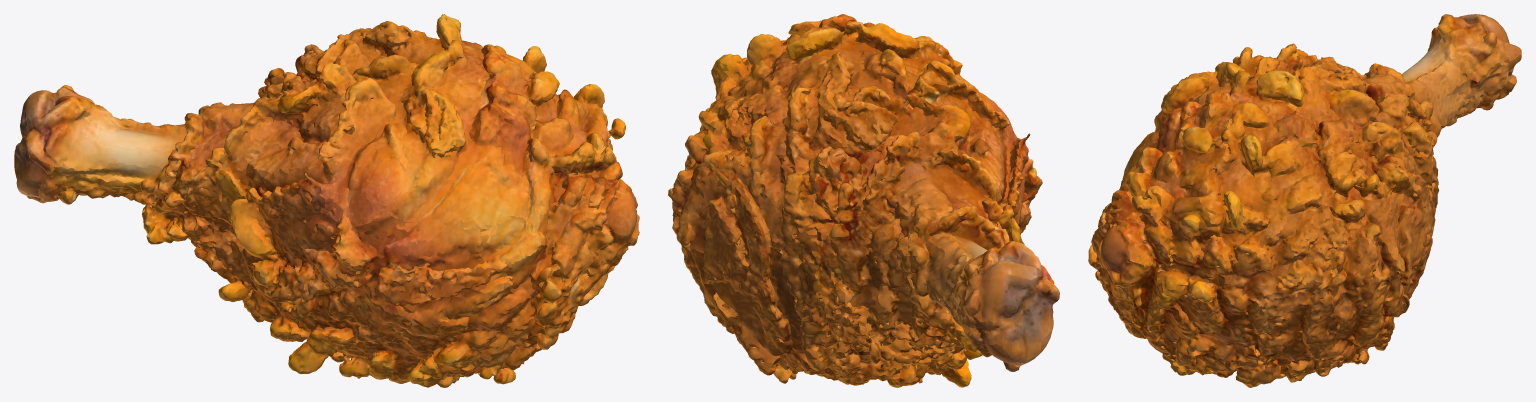
File: crispy-chicken-0.glb
3 views of the same model, side by side, from view 1: azimuth 30°, elevation 25°; view 2: azimuth 150°, elevation 25°; view 3: azimuth 270°, elevation 25° (orthographic). The views are drawn at different scales.
Parts seen in each view (by area): view 1: FoodRedoV2Alignment-0; view 2: FoodRedoV2Alignment-0; view 3: FoodRedoV2Alignment-0.
Part boxes in pixels (box(x1,y1,x2,y2)): FoodRedoV2Alignment-0: box(14, 14, 639, 387); FoodRedoV2Alignment-0: box(668, 14, 1059, 387); FoodRedoV2Alignment-0: box(1088, 14, 1521, 387).
Bounding box in the file's own units: 0.1318 × 0.0919 × 0.1166.
Materials: 1 (1 with a texture image).
